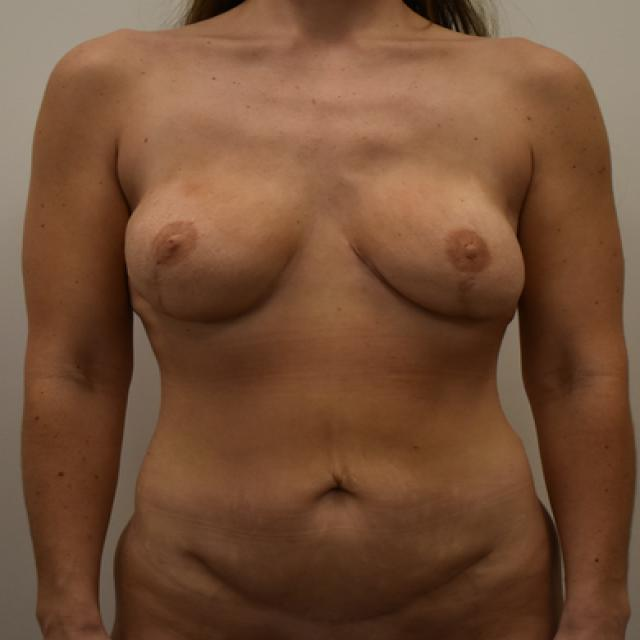Seno herido: (110, 162, 320, 339), (327, 162, 536, 339)
